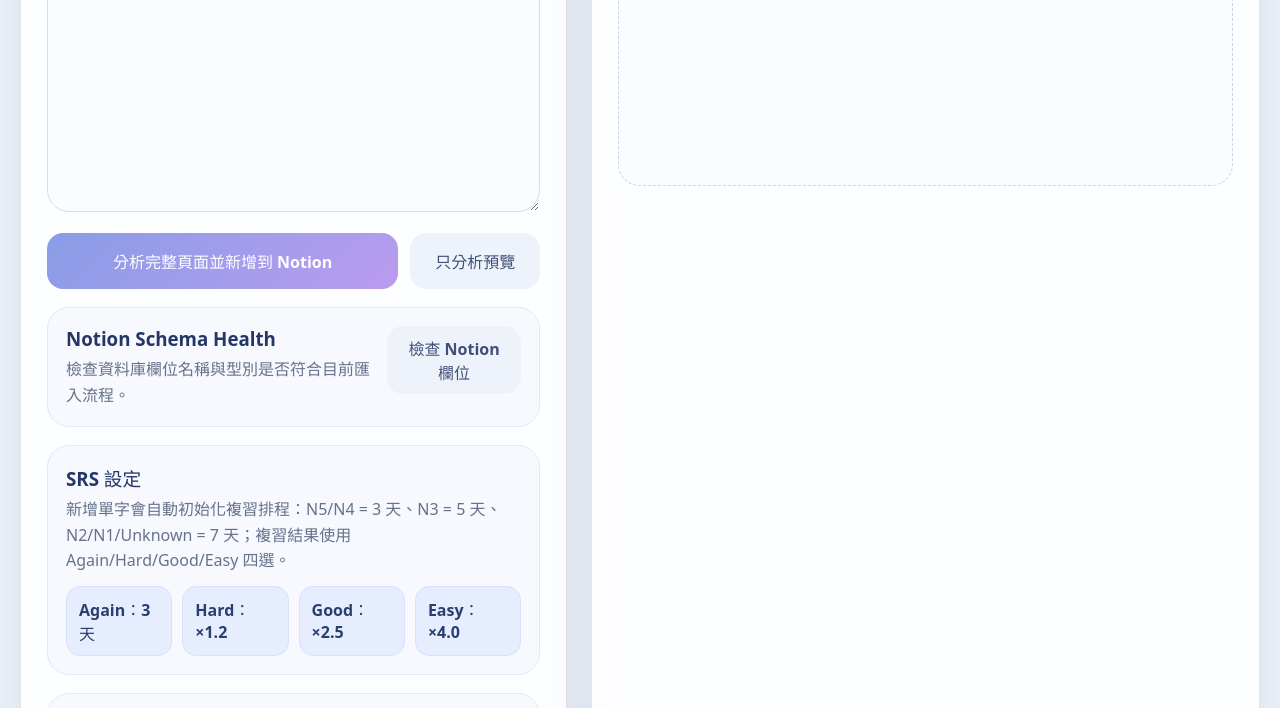
Test case: App › shows Notion schema health status and missing property hints
(page scrolled)
Click the button "檢查 Notion 欄位" at (454, 360), box [387,326,521,394]
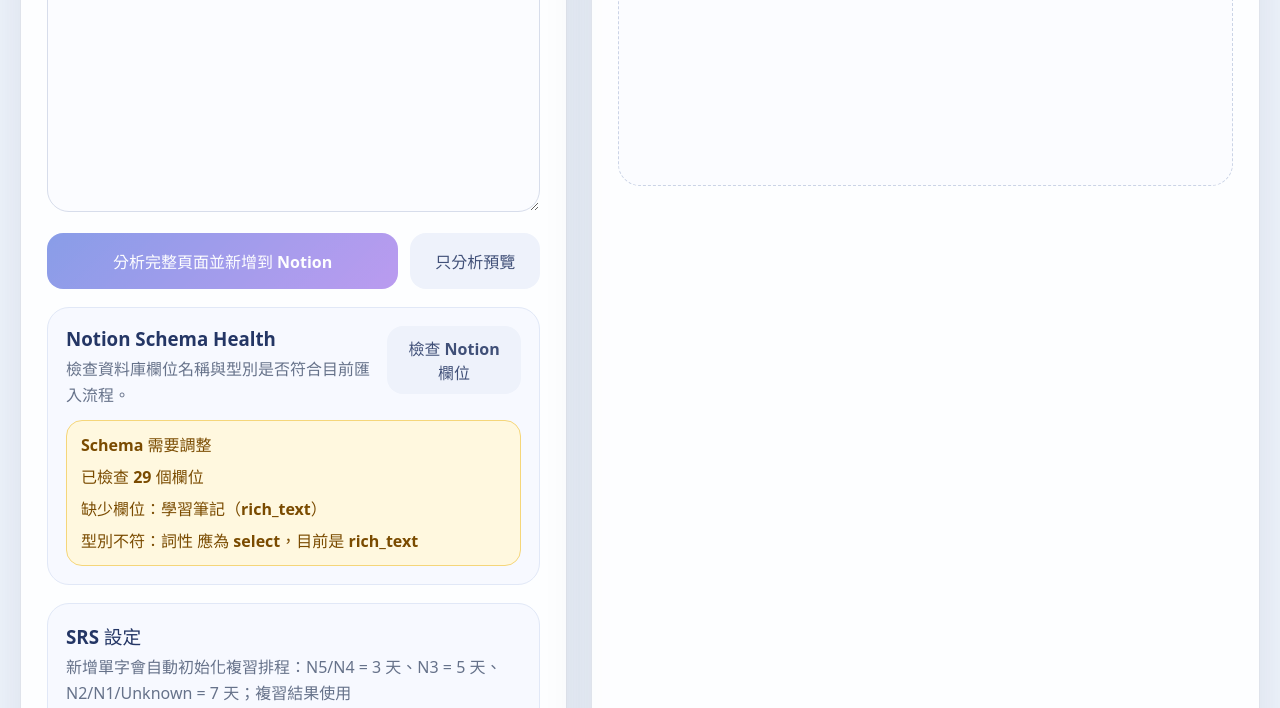
Result: the text "Schema 需要調整" is shown at [81,434,212,456]
Result: the text "缺少欄位：學習筆記（rich_text）" is shown at [81,498,327,520]
Result: the text "型別不符：詞性 應為 select，目前是 rich_text" is shown at [81,530,418,552]
